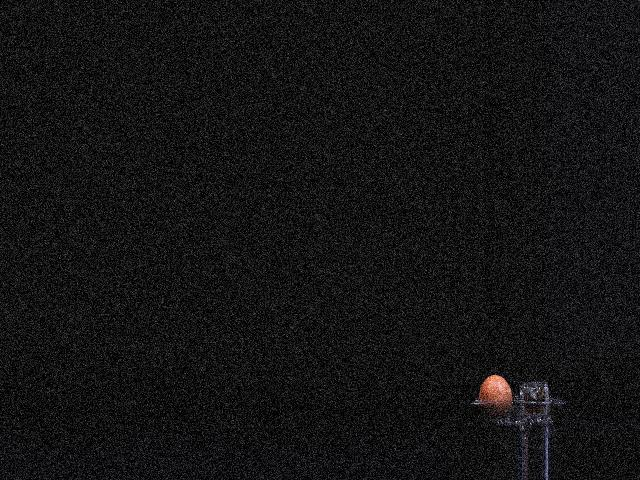egg: (477, 375, 511, 420)
